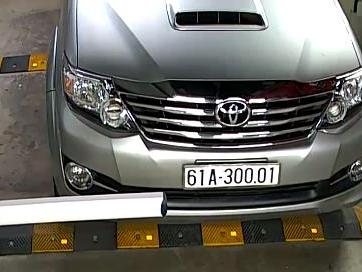number: (184, 165, 278, 188)
